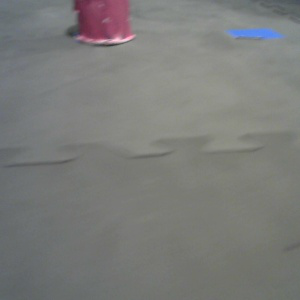middle: (73, 1, 136, 45)
